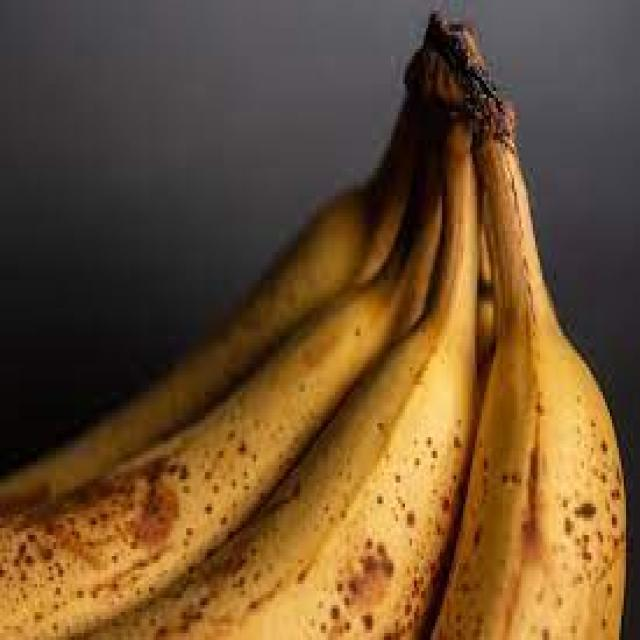Banana: (0, 6, 626, 636)
